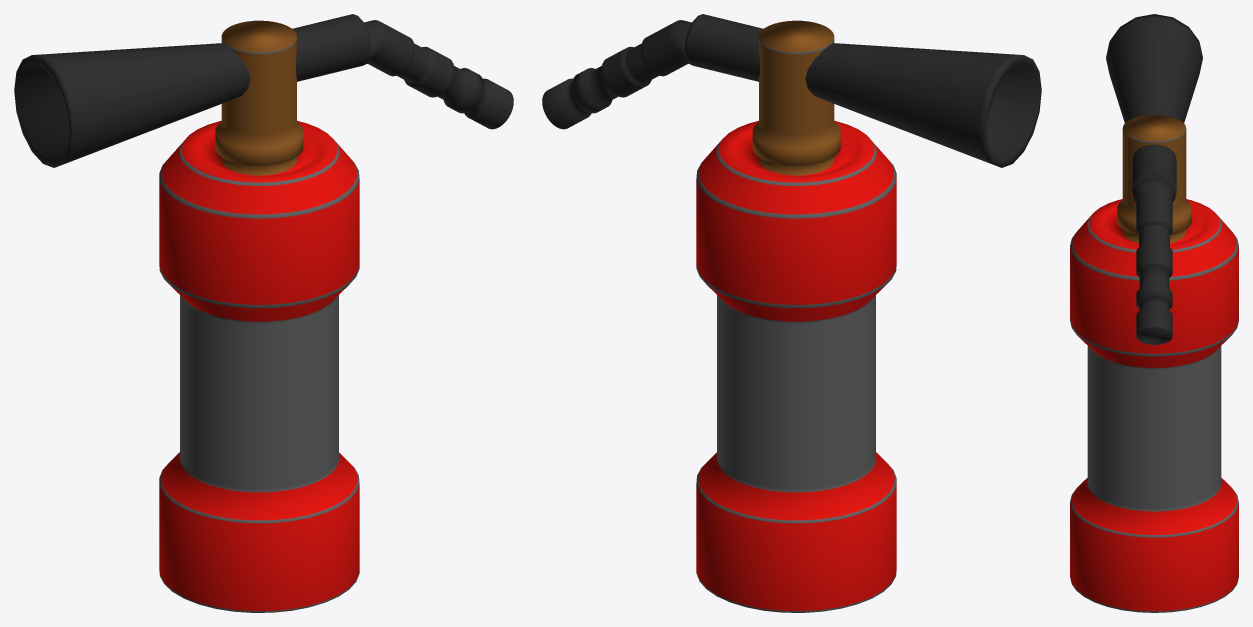
The model's file is Extintor.fbx.
3 views of the same model, side by side, from view 1: azimuth 30°, elevation 25°; view 2: azimuth 150°, elevation 25°; view 3: azimuth 270°, elevation 25° (orthographic). The views are drawn at different scales.
Parts seen in each view (by area): view 1: Cylinder; view 2: Cylinder; view 3: Cylinder.
Boxes of the visible parts, x1,y1,x2,y2 form: Cylinder: (14, 14, 513, 612); Cylinder: (542, 14, 1041, 612); Cylinder: (1070, 14, 1238, 612).
Bounding box in the file's own units: 537 × 620 × 200.
